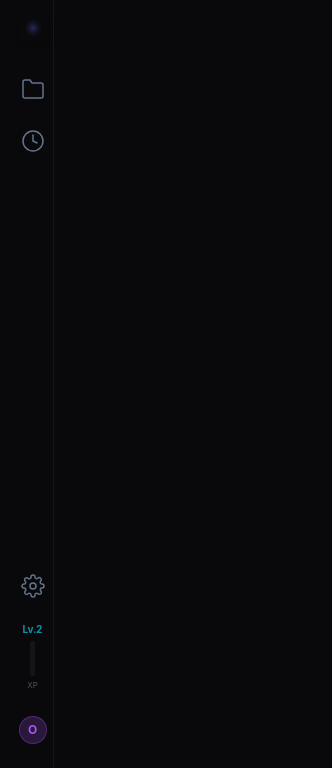
it: ActivityBar › should open the profile menu and show account actions for authenticated users
This screenshot has width=332, height=768.
Click the button named "Perfil y Cuenta" at {"x": 32, "y": 730}, box left=18, top=716, right=46, bottom=744
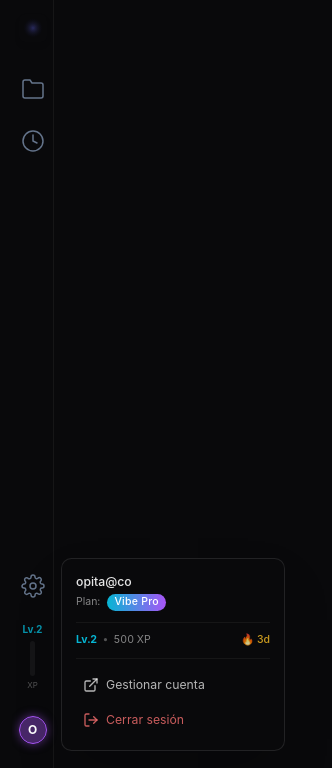
Expected: the text "opita@co" is shown, left=76, top=574, right=132, bottom=588
Expected: the link "Gestionar cuenta" is shown, left=83, top=677, right=205, bottom=693
Click the button "Cerrar sesión" at {"x": 173, "y": 720}, box left=76, top=704, right=270, bottom=736
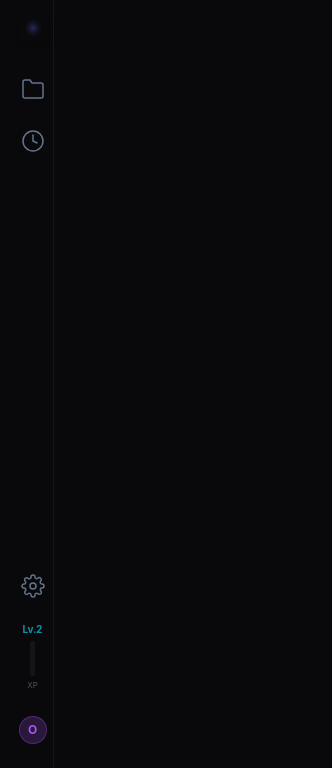
Expected: the link "Gestionar cuenta" is gone
